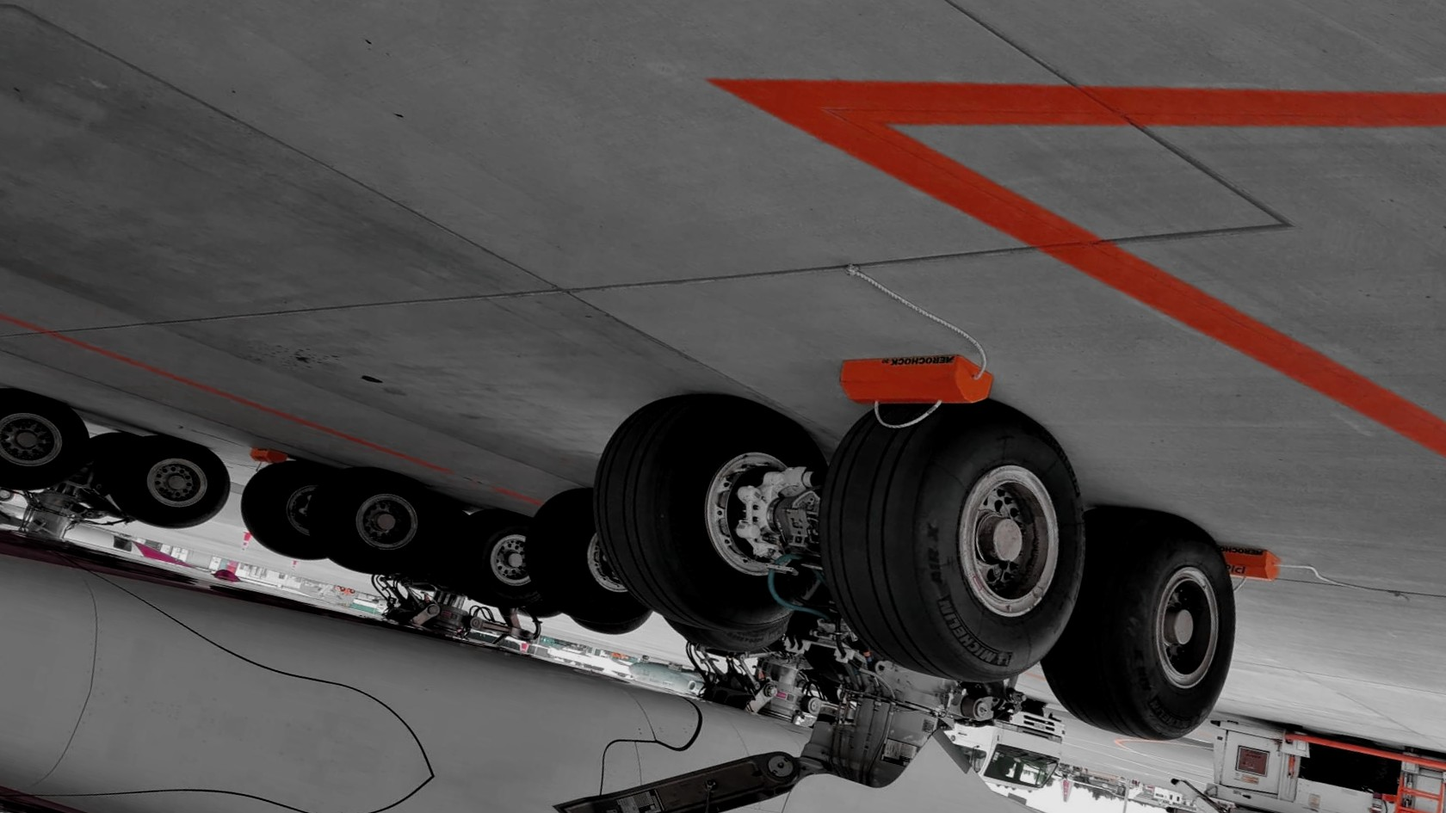chock: (830, 329, 1005, 437), (1153, 523, 1290, 592), (241, 440, 295, 470)
wheel: (778, 371, 1119, 711), (567, 369, 856, 661), (1018, 492, 1265, 758), (508, 479, 680, 646), (299, 455, 451, 590), (90, 422, 241, 544), (226, 447, 351, 569), (436, 499, 559, 618), (0, 375, 103, 507), (657, 595, 784, 667), (398, 498, 483, 601), (1310, 727, 1395, 794), (560, 591, 651, 645)
